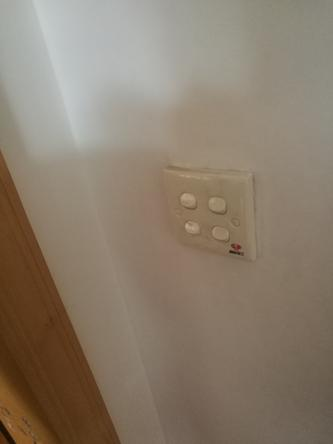switch: (206, 192, 229, 216), (212, 223, 233, 244), (180, 189, 198, 209), (184, 220, 201, 237)
